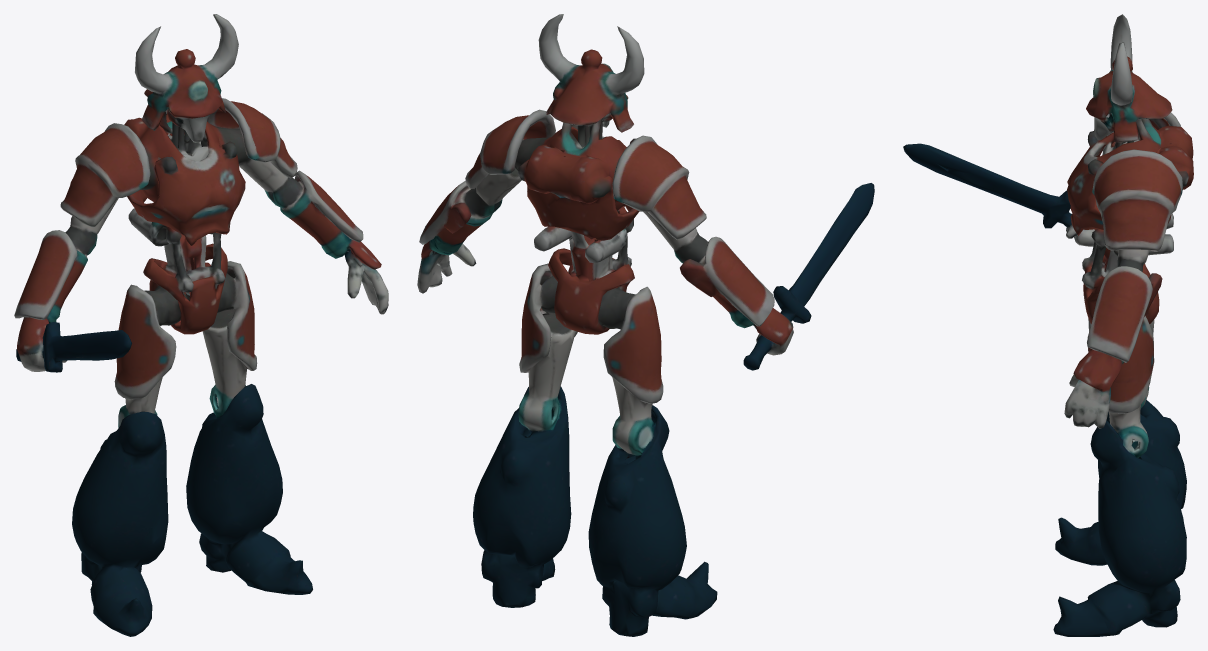
File: vb-hid-shadow.glb
The picture shows the model from 3 angles, left to right: view 1: azimuth 30°, elevation 25°; view 2: azimuth 150°, elevation 25°; view 3: azimuth 270°, elevation 25°; orthographic projection. The views are drawn at different scales.
Visible parts, largest first — view 1: geometry_0; view 2: geometry_0; view 3: geometry_0.
Part boxes in pixels (x1,y1,x2,y2): geometry_0: (14, 14, 388, 636); geometry_0: (417, 14, 874, 636); geometry_0: (903, 14, 1193, 636).
Size of the model in its own units: 0.6606 by 1 by 0.4661.
1 material, 1 textured.
